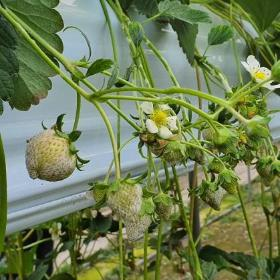Powdery Mildew Fruit: (24, 129, 78, 183), (105, 177, 144, 218), (123, 198, 155, 240), (198, 182, 223, 211)
